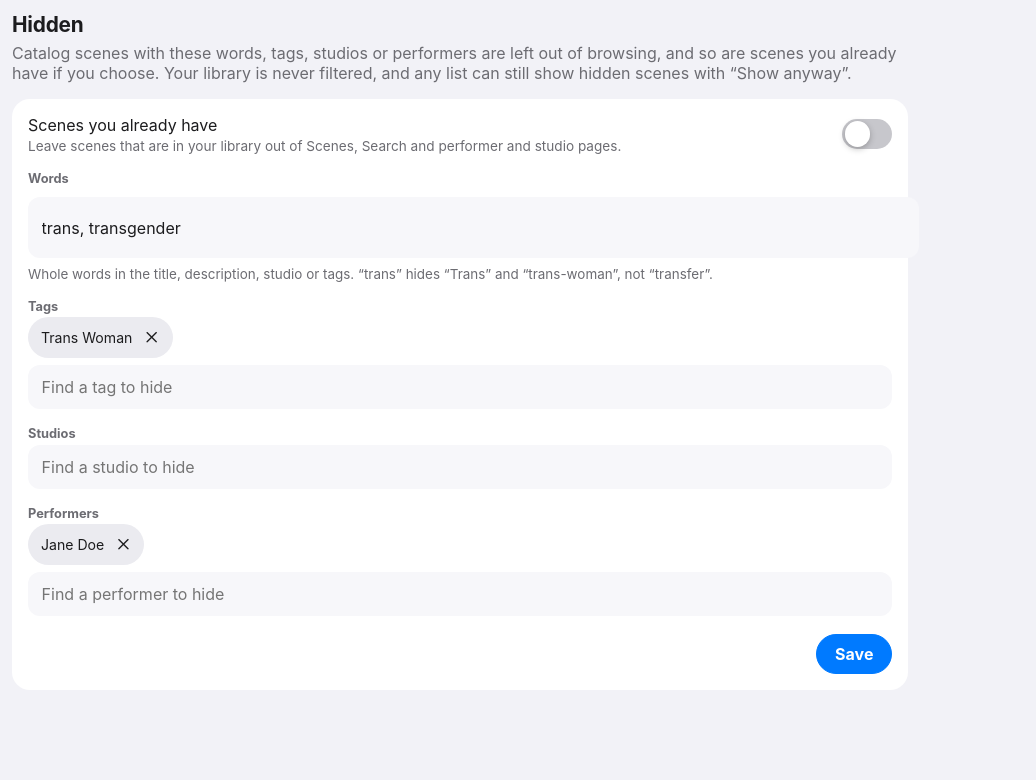
Test: SettingsHiddenPageComponent › finds a tag in the catalog, adds it and saves everything
Type "trans" into the search field with placeholder "Find a tag to hide". click: (460, 387)
box: [28,365,892,409]
Wait 400 ms
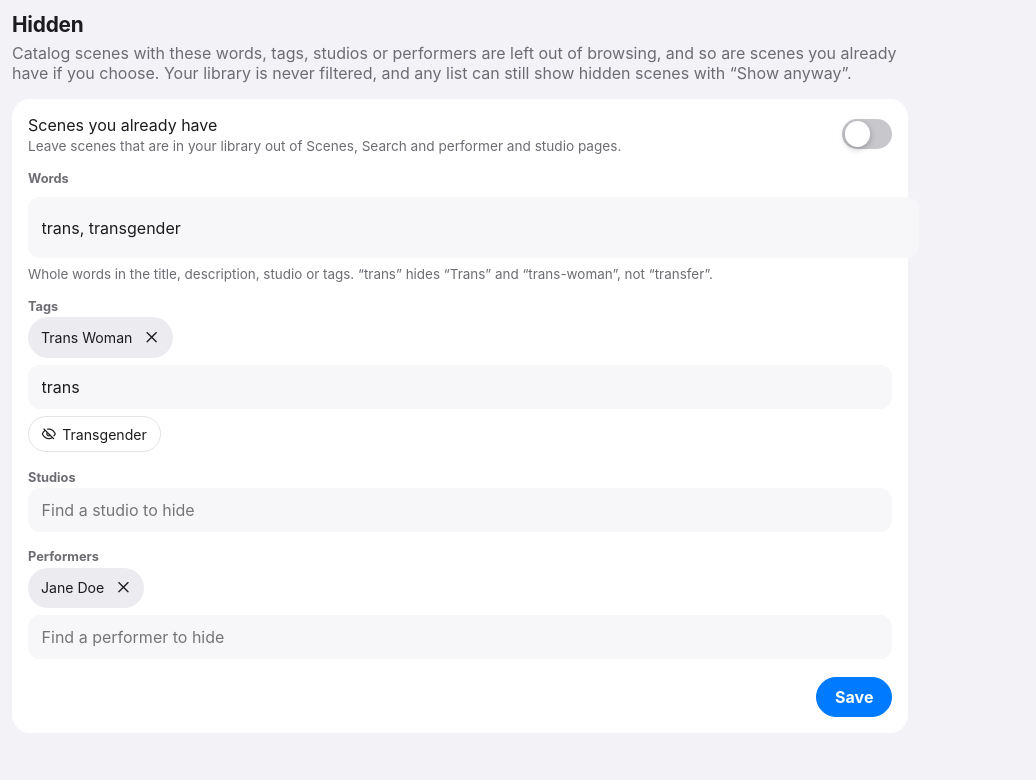
Click the button with class "suggestion". click: (94, 434)
box: [28,416,161,452]
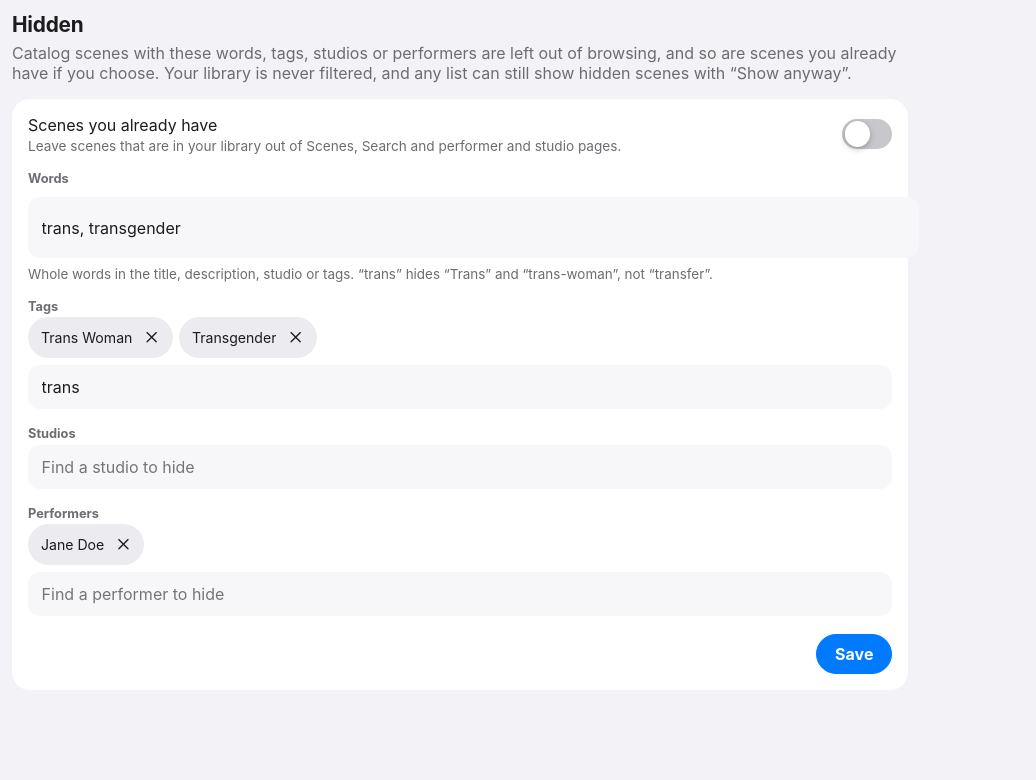
Type "trans, transgender, pov" into the field named "words". click: (474, 228)
box: [28,197,919,258]
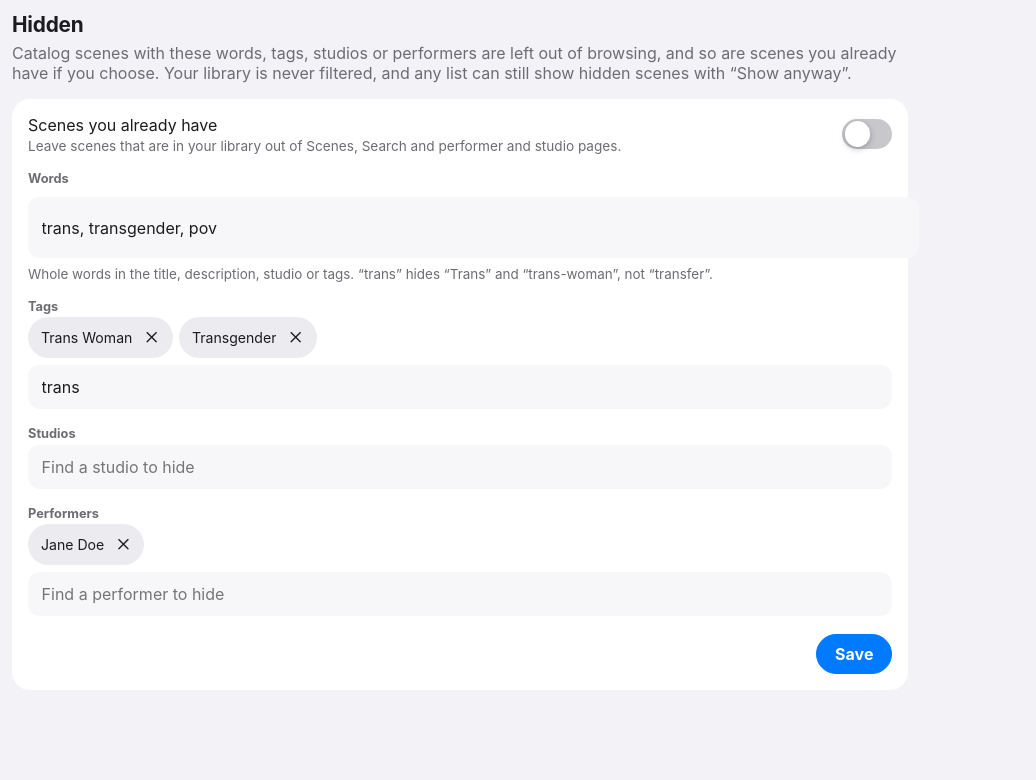
Submit the form
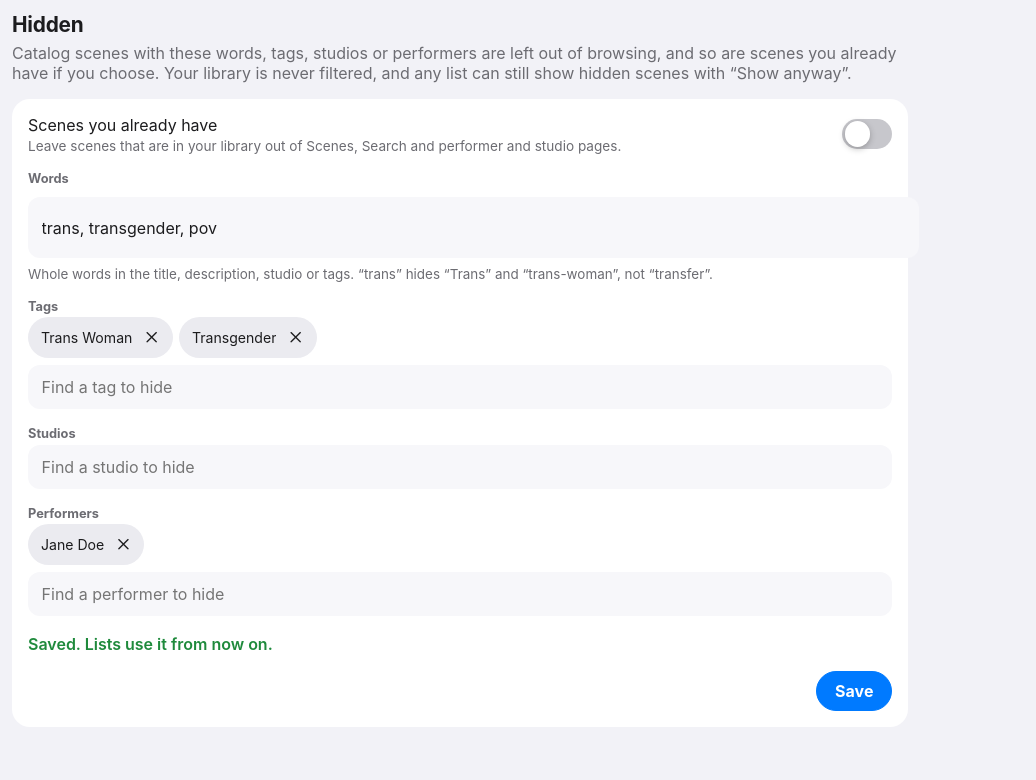
Check: the text "Saved." is shown, box [28,634,273,654]
